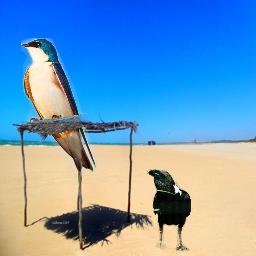Crow: (146, 169, 191, 251)
Swallow: (21, 38, 97, 173)
